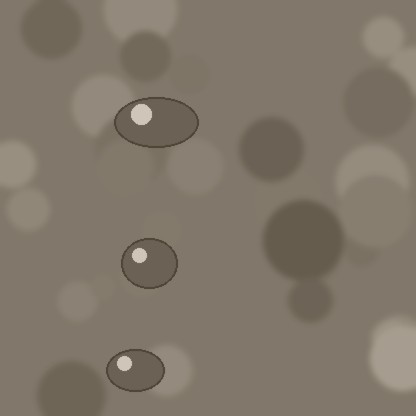gota: (114, 99, 198, 151), (121, 240, 177, 292), (106, 351, 164, 395)
